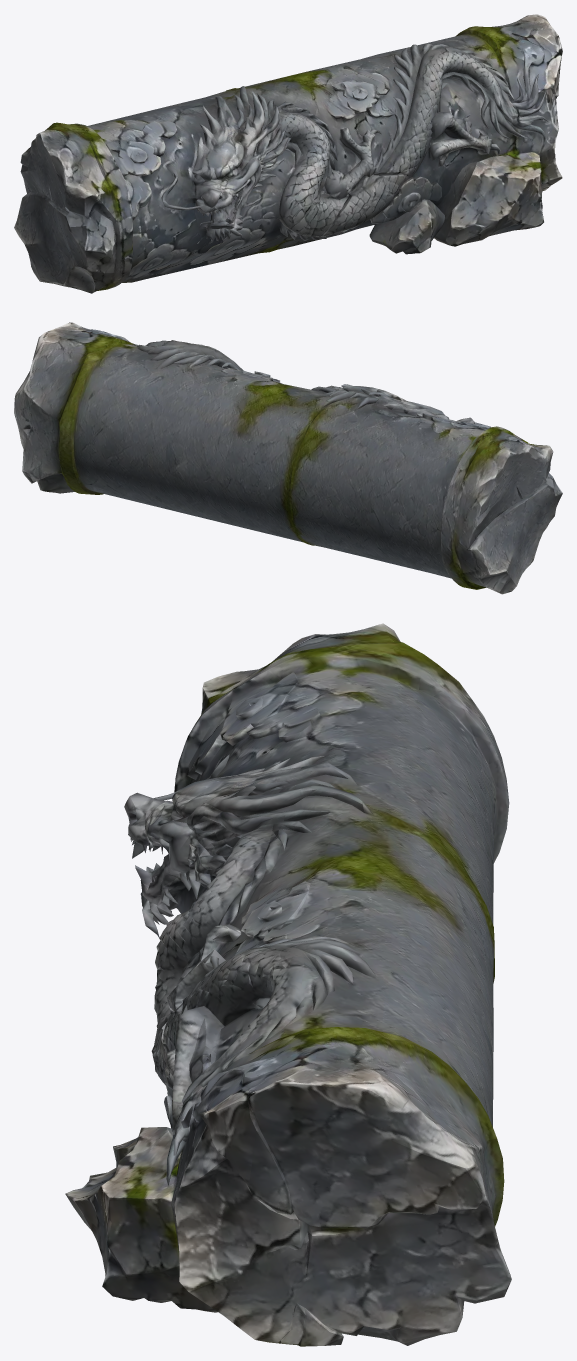
Rendered from pillar_fallen.glb.
3 views of the same model, one above another, from view 1: azimuth 30°, elevation 25°; view 2: azimuth 150°, elevation 25°; view 3: azimuth 270°, elevation 25° (orthographic). The views are drawn at different scales.
Visible parts, largest first — view 1: model; view 2: model; view 3: model.
Part boxes in pixels (<box>): model: <box>14,14,562,293</box>; model: <box>14,322,562,594</box>; model: <box>65,623,511,1346</box>.
Size of the model in its own units: 1.9 by 0.5813 by 0.7631.
1 material, 1 textured.
